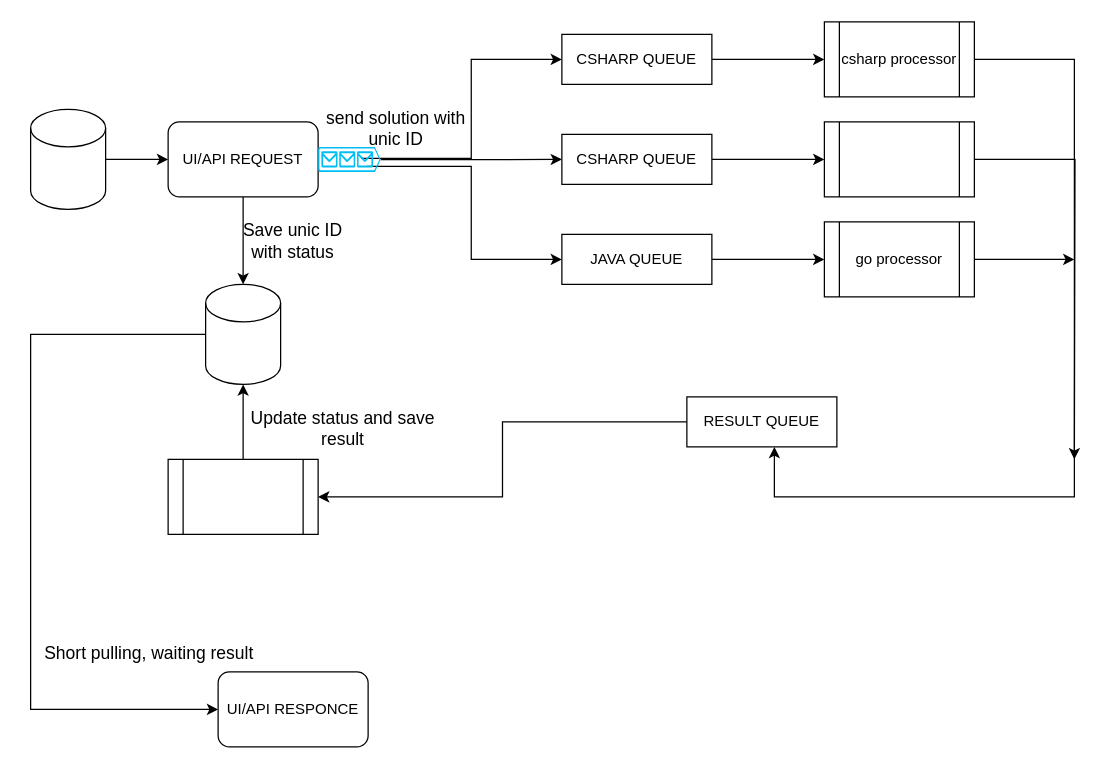
This 1108x769 diagram has some shape labels left out. The shapes that lost their labels are listed below. From the top down, each one's centre as x and y in pixels, then its label:
(x=67, y=158): POSGRE
(x=898, y=159): java processor
(x=242, y=333): REDIS
(x=242, y=496): Result processing Backgroud service
